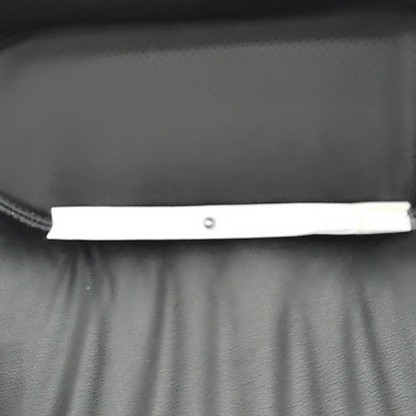ironball: (199, 213, 216, 229)
